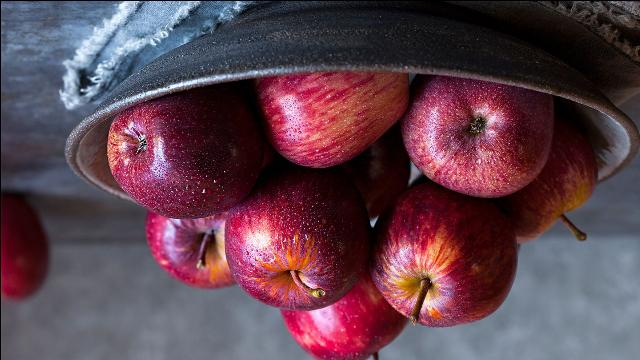Apples: (369, 183, 516, 327), (223, 182, 365, 310), (404, 74, 550, 196), (105, 103, 252, 217), (258, 71, 404, 167), (518, 125, 596, 241), (278, 298, 406, 360), (143, 212, 234, 286)
